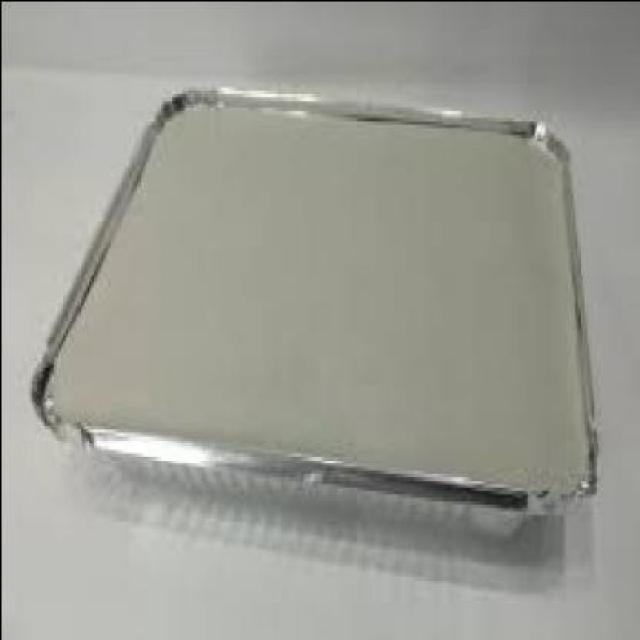METAL: (32, 89, 598, 517)
